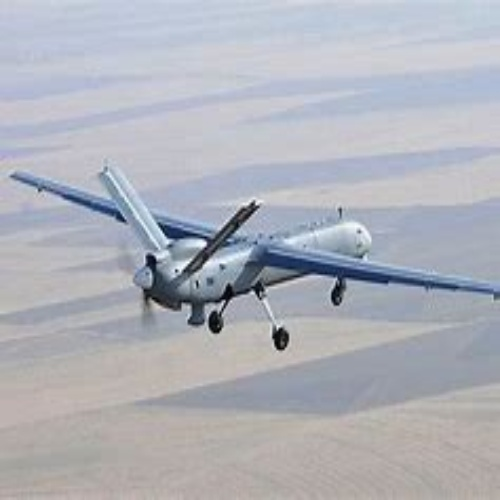uav: (6, 164, 498, 352)
